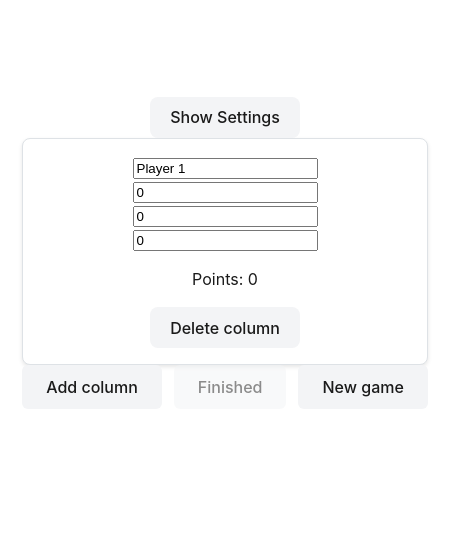
PointsCalculator › starts a new game when "New game" is clicked
The width and height of the screenshot is (451, 537).
Replace the text in the number field named "Round 1 Points for Player 1" with "5": (225, 192) [132,182,318,203]
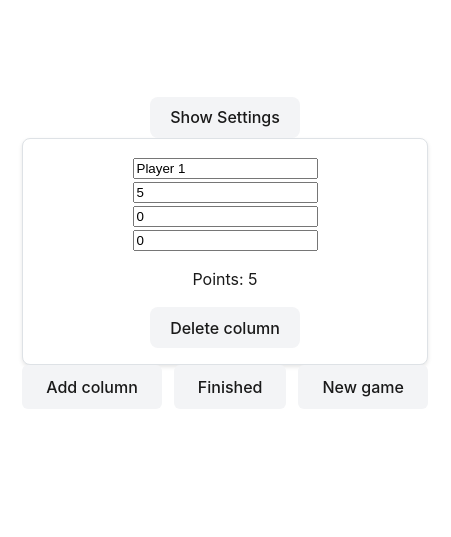
Click the button "Finished": (230, 387) [174,365,286,409]
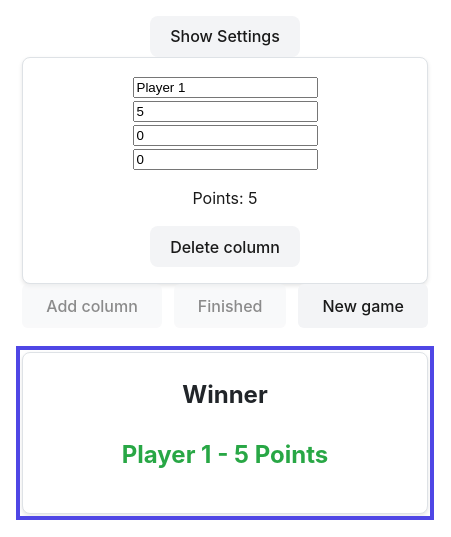
Click the button "New game": (363, 306) [298,284,428,328]
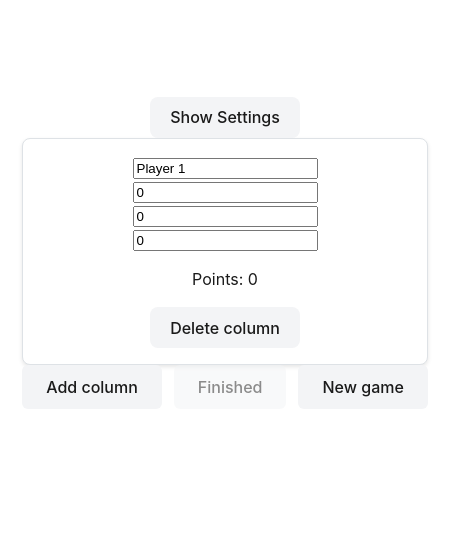
Expected: the text "Points: 0" is shown, [192,269,258,289]
Expected: the text "Player 1 - 5 Points" is gone
